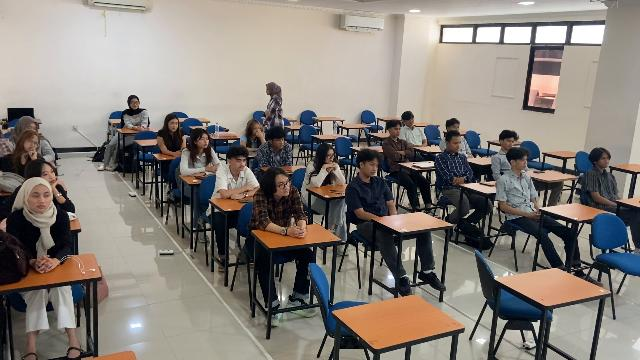fokus: (31, 188, 49, 211), (275, 176, 290, 196), (42, 165, 56, 185), (25, 137, 39, 152), (366, 159, 378, 176), (234, 156, 246, 171), (27, 122, 43, 133), (451, 136, 462, 152), (517, 155, 528, 170), (599, 153, 610, 168), (198, 134, 209, 148), (504, 136, 514, 149), (168, 118, 178, 131), (273, 138, 284, 149), (326, 149, 334, 163), (392, 124, 400, 138), (253, 123, 261, 136), (450, 123, 460, 132), (405, 117, 414, 126)
